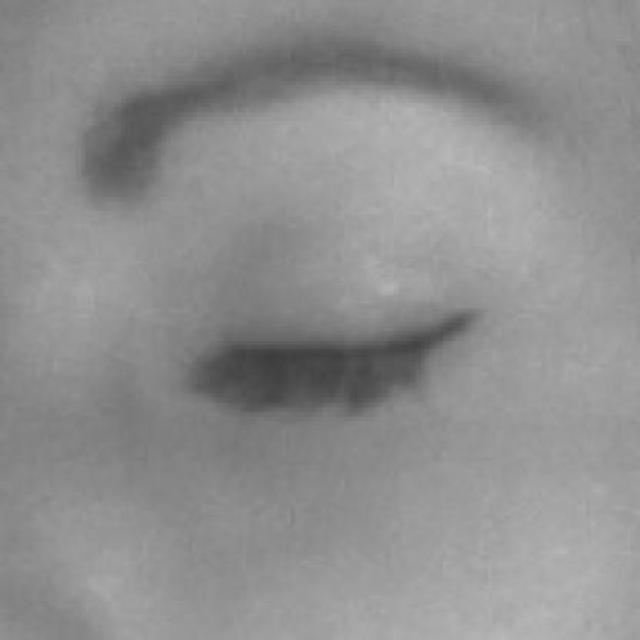drowsy: (204, 240, 478, 494)
